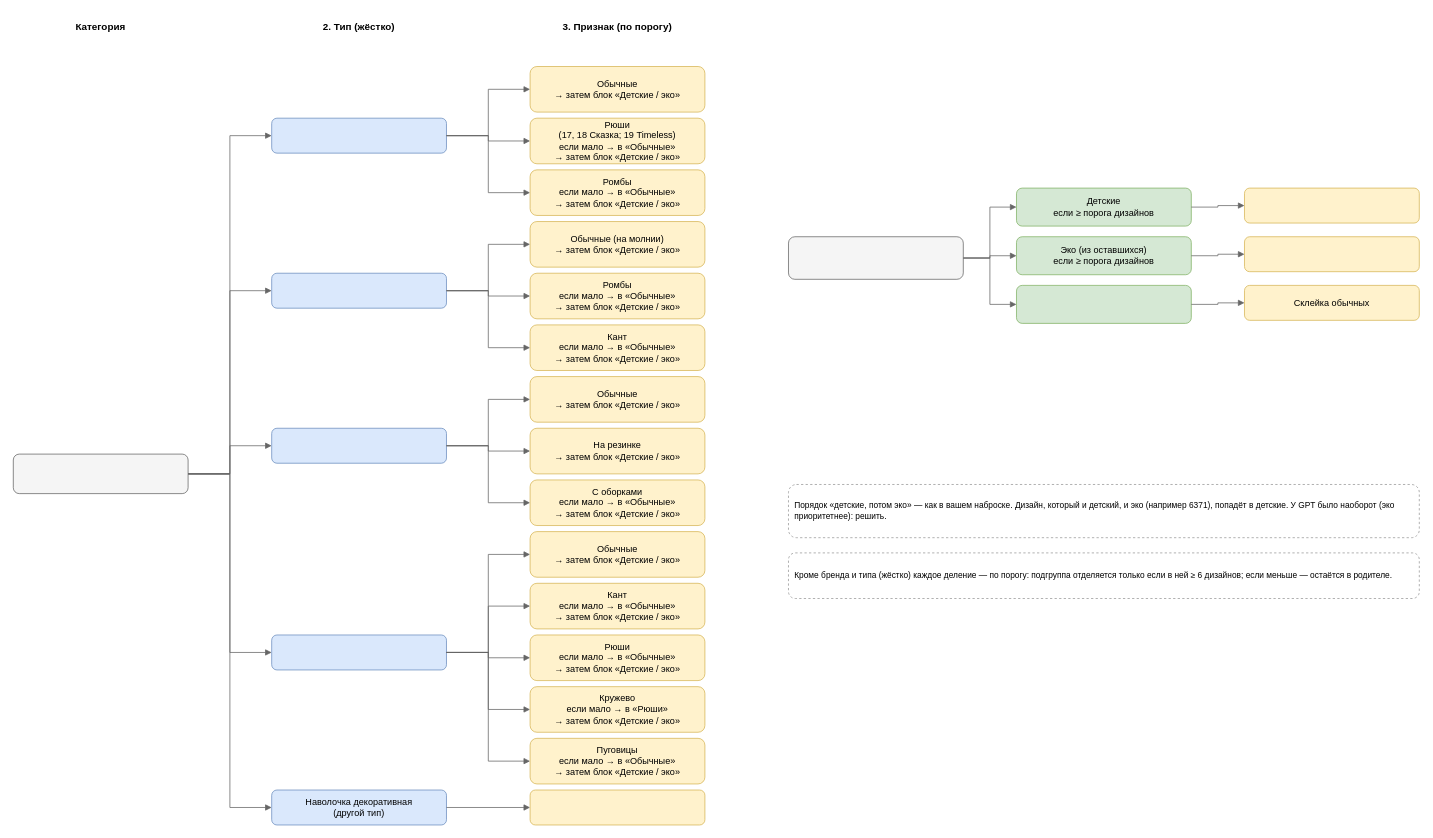
Some shapes in this 1433 by 838 pixel diagram are drawn without their labels. The centre of each missing label's shape, as x and y in pixels:
"Без признаков → склейка" belongs at [617,807].
"Блок «Детские / эко» один и тот же под каждым признаком" belongs at [875,257].
"Комплект постельного белья" belongs at [358,135].
"Наволочка" belongs at [358,652].
"Остальные" belongs at [1103,304].
"Пододеяльник" belongs at [358,290].
"Постельное бельё (типы товара внутри бренда)" belongs at [100,473].
"Простыня" belongs at [358,445].
"Склейка детских" belongs at [1331,205].
"Склейка эко" belongs at [1331,254].
